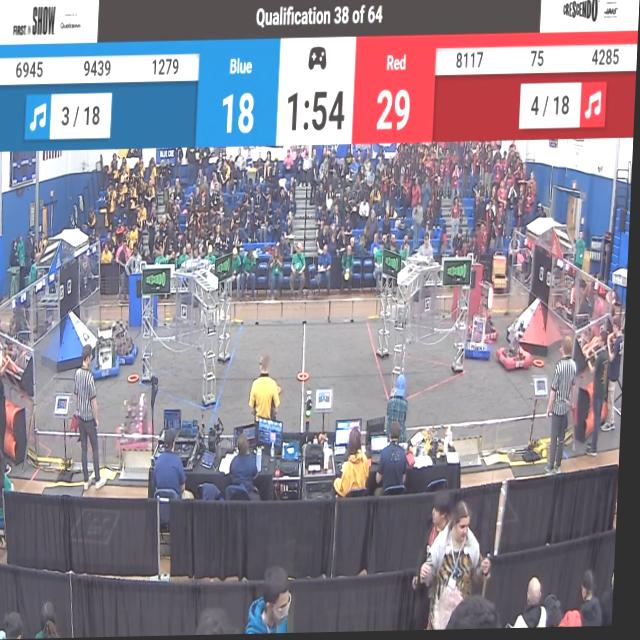Robot: (498, 310, 547, 379), (118, 388, 157, 455), (467, 298, 498, 367), (473, 284, 504, 351), (90, 328, 123, 385), (117, 320, 142, 369)
